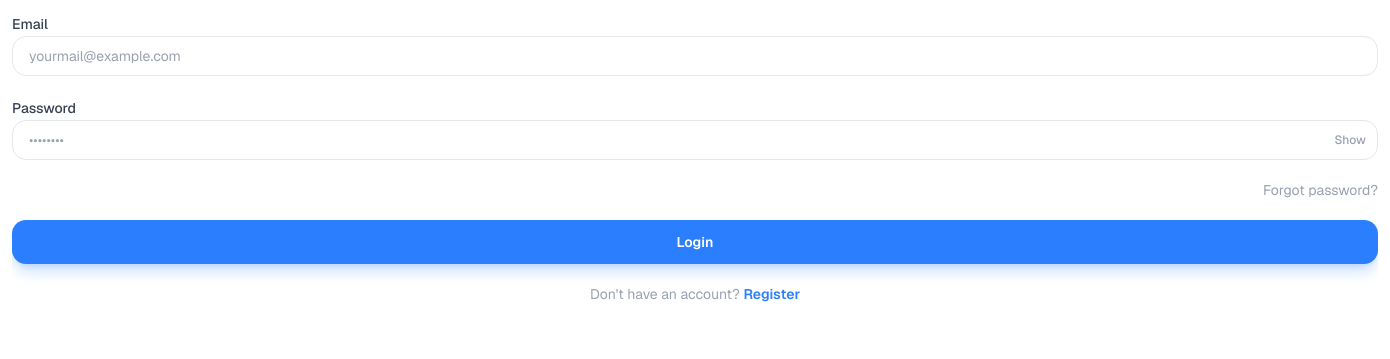
Test: LoginForm — Unit Tests › TC-LOGIN-06: displays server error message when login fails
Type "wrong@test.com" into the field labelled "Email". click: [695, 56]
box: top-left (12, 36), bottom-right (1378, 76)
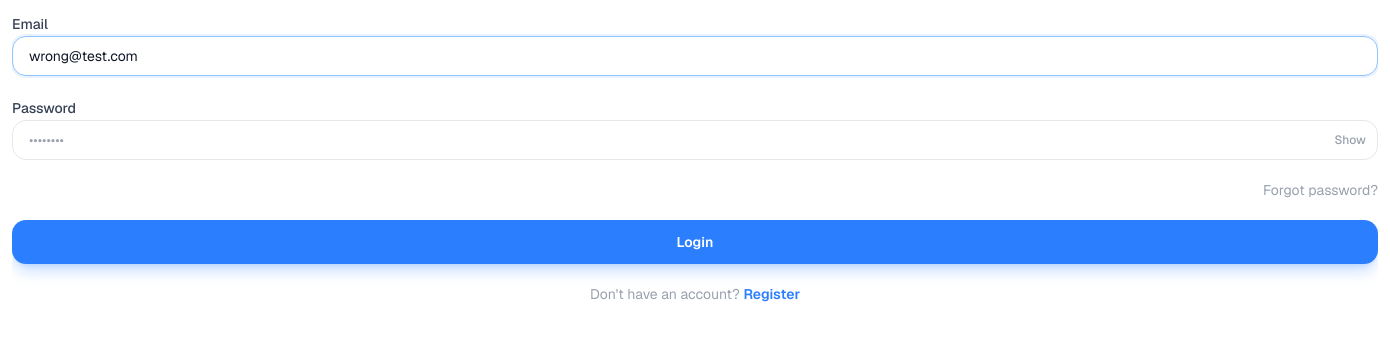
Type "WrongPass1!" into the password field with placeholder "••••••••". click: [695, 140]
box: top-left (12, 120), bottom-right (1378, 160)
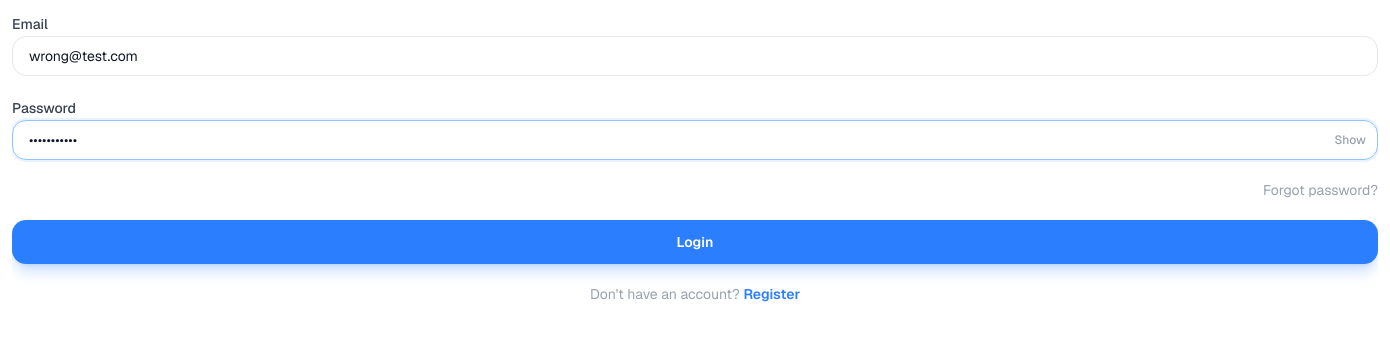
Click the button "Login". click: [695, 242]
box: top-left (12, 220), bottom-right (1378, 264)
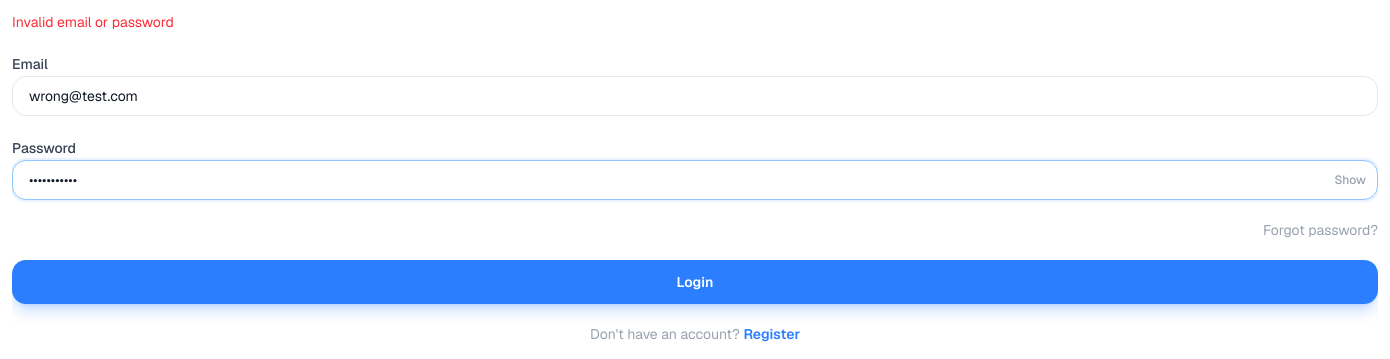
Check: the text "Invalid email or password" is shown, box top-left (12, 13), bottom-right (174, 31)
